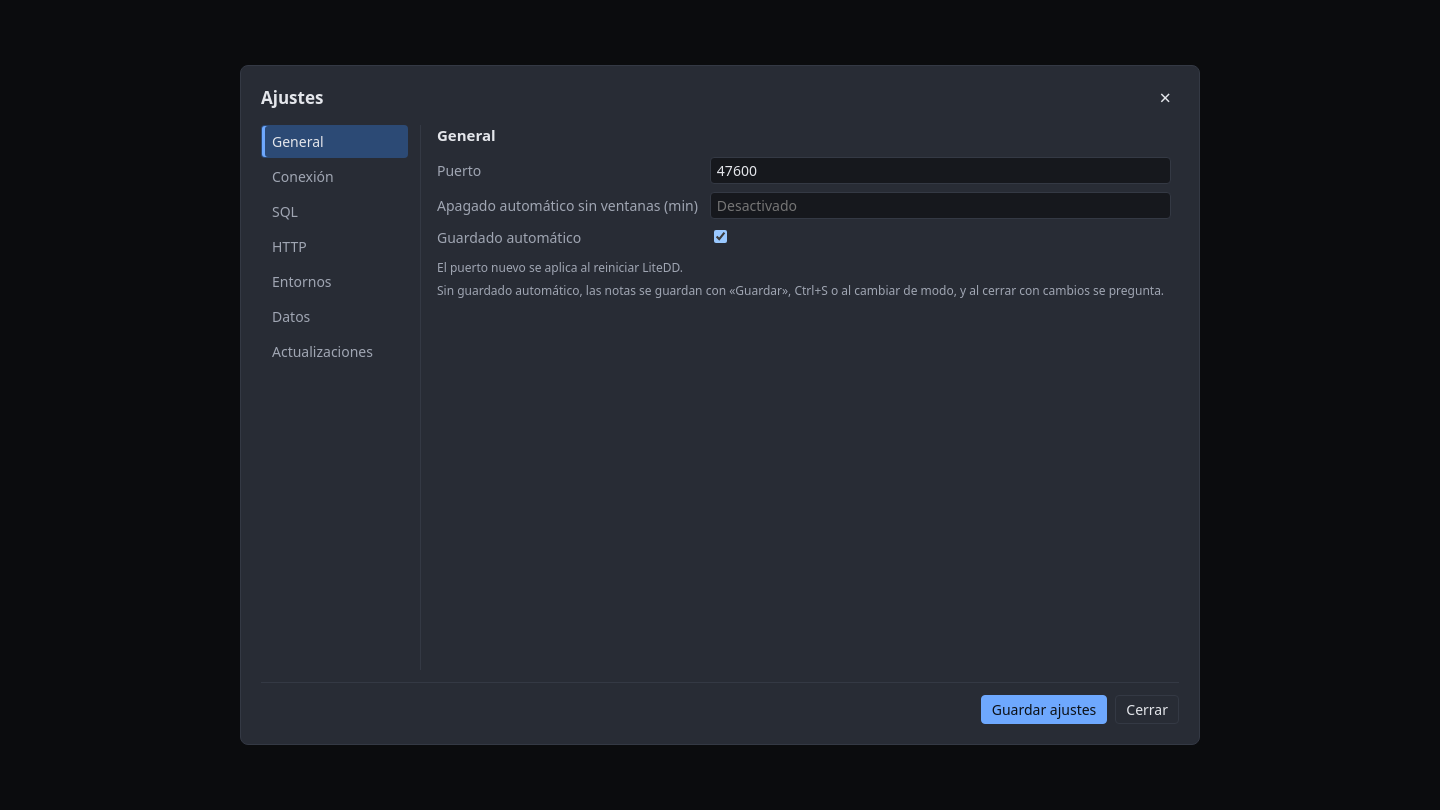
U-10 «General» y «SQL» › U-10 muestra el error de validación del servidor
Step 1. Click the button "Guardar ajustes" → [1044, 710], box [981,695,1107,724]
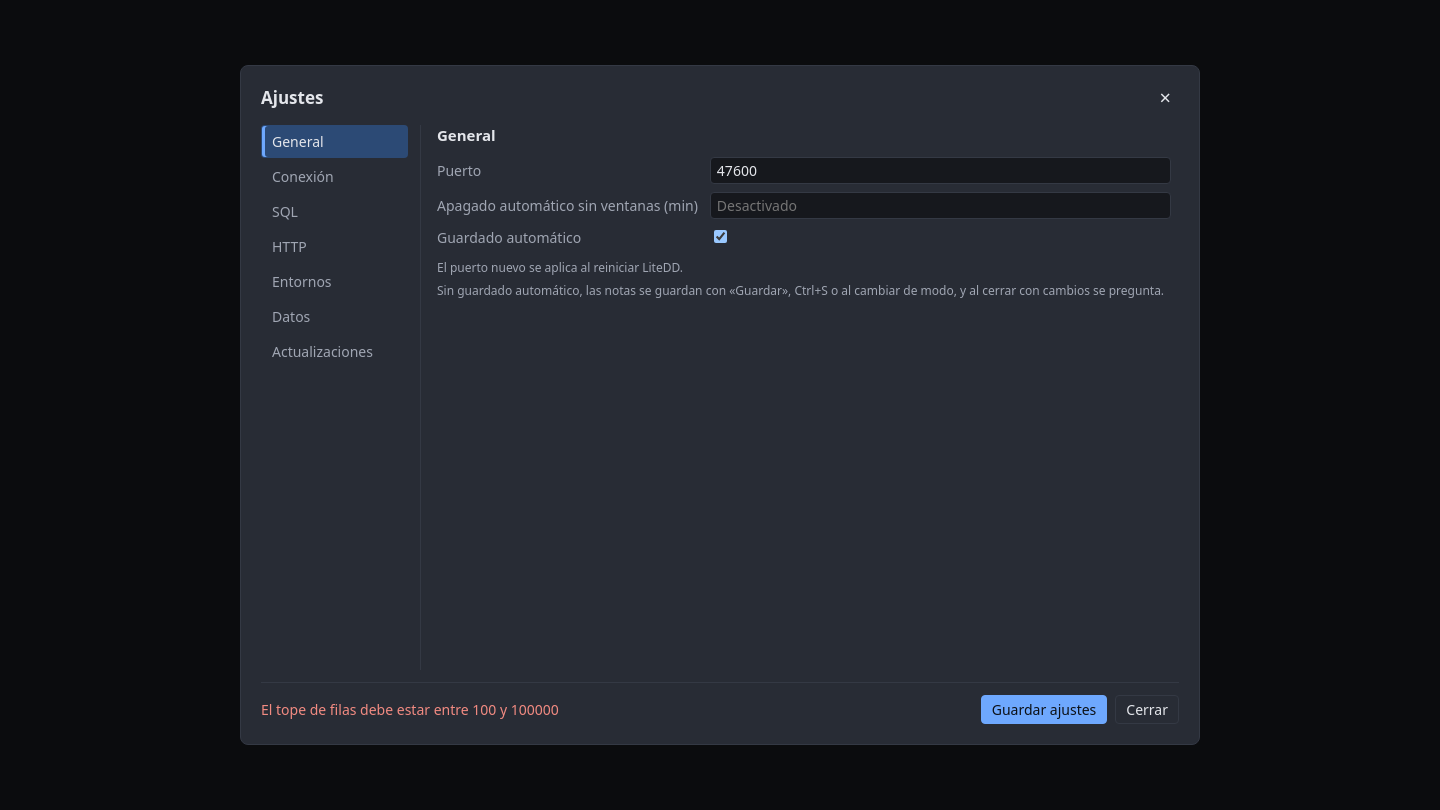
Expected: the message shows "tope de filas", [261,700,559,719]
